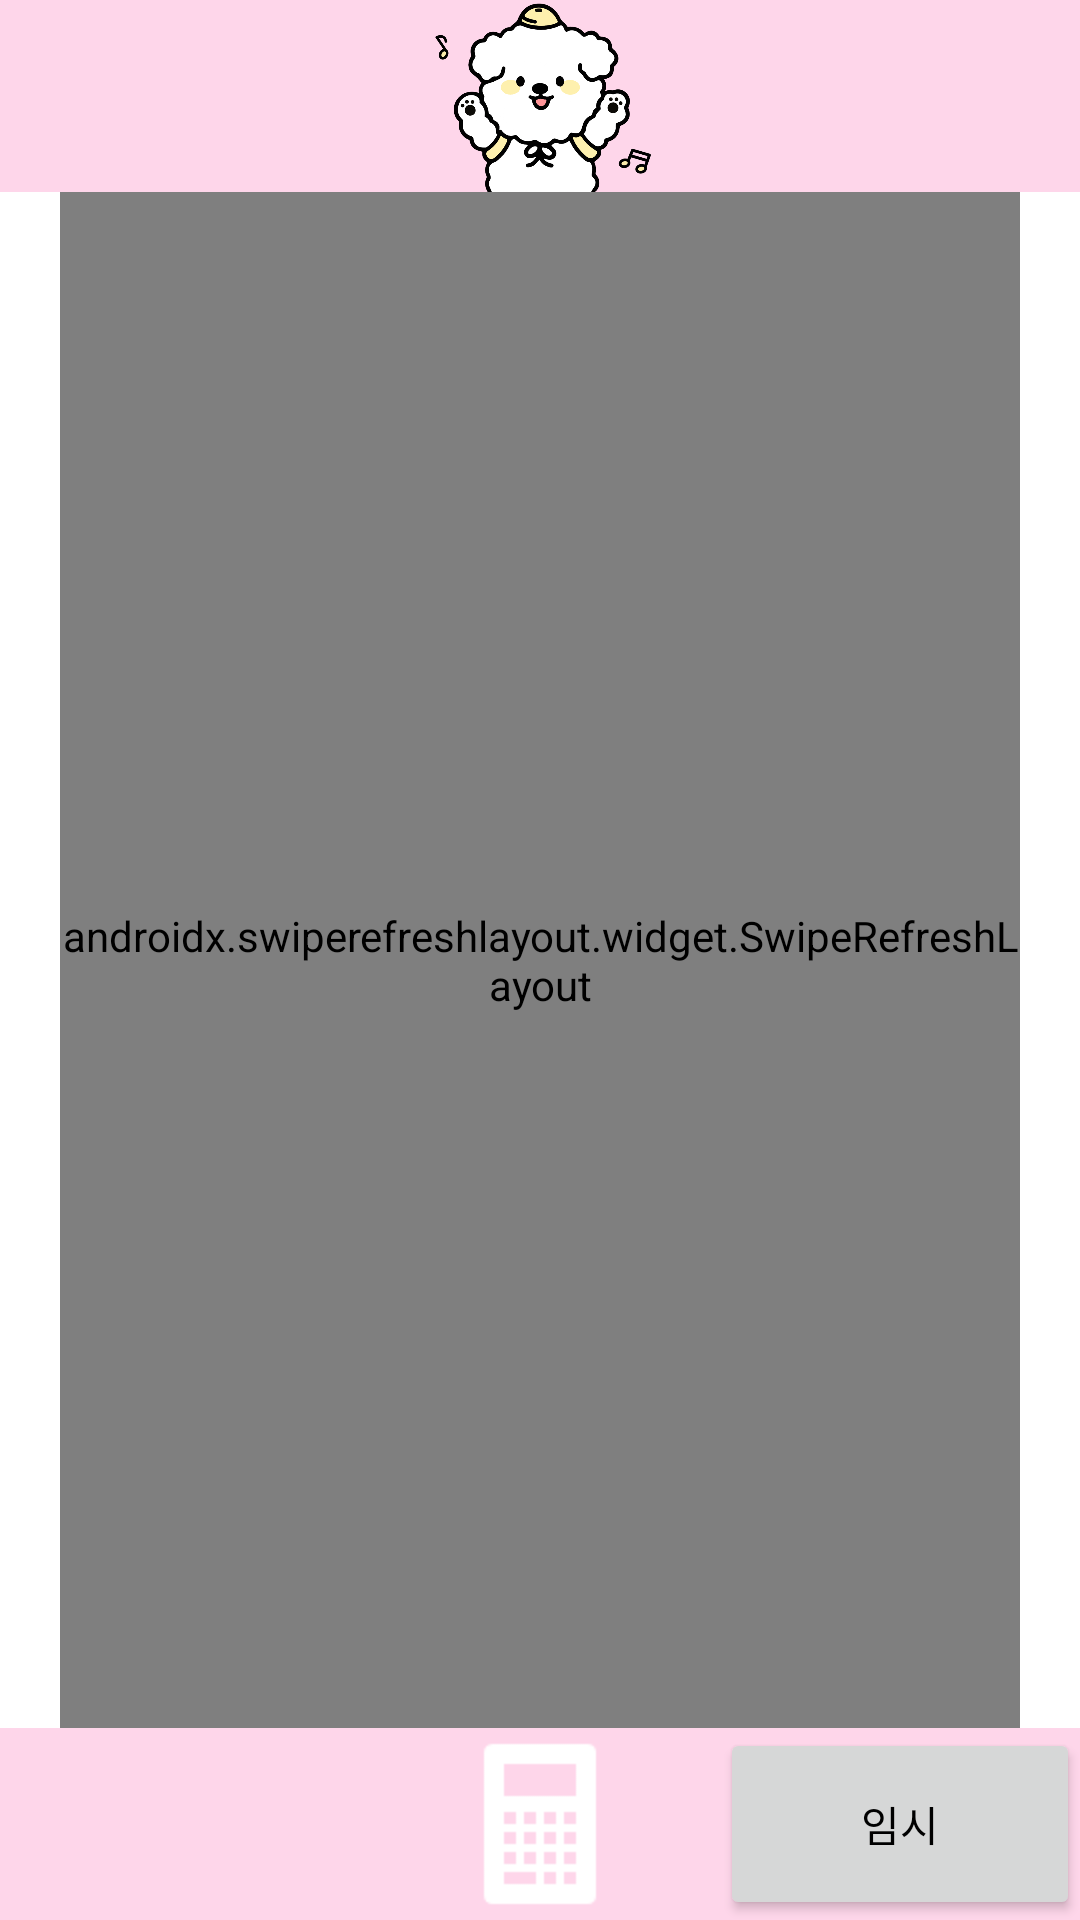

Icons on this 1080px×1920px Android screen, each with the point to tap as point (x, y):
calculator: point (540, 1824)
